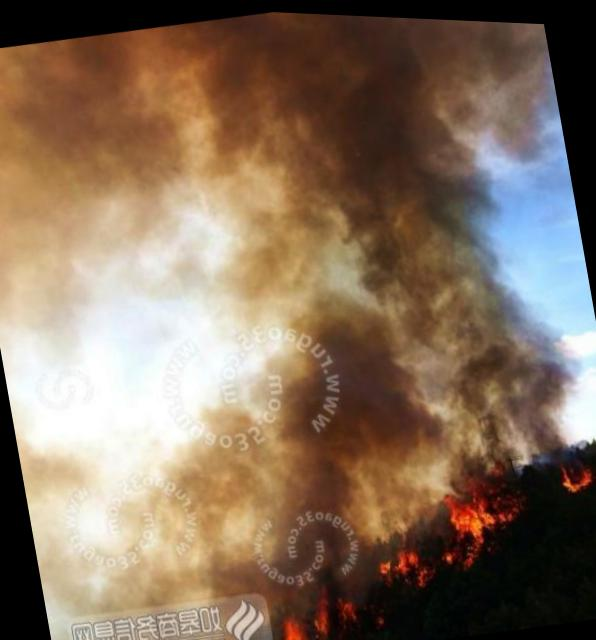fire: (446, 480, 497, 536), (310, 586, 334, 633), (561, 458, 595, 490), (277, 612, 313, 639), (337, 589, 359, 618), (398, 543, 421, 570), (380, 554, 392, 569)
